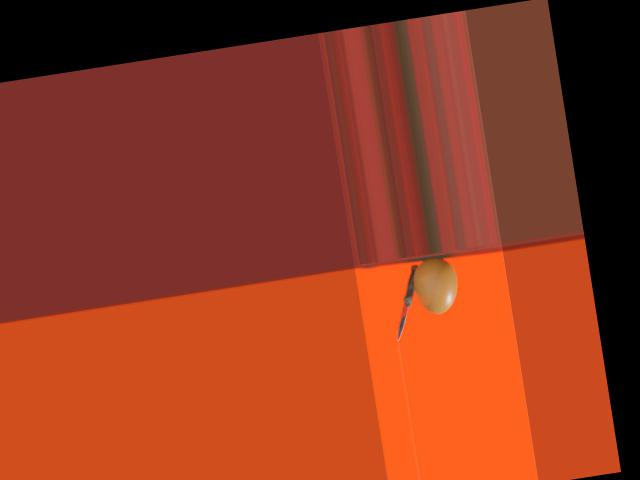egg: (410, 255, 460, 315)
